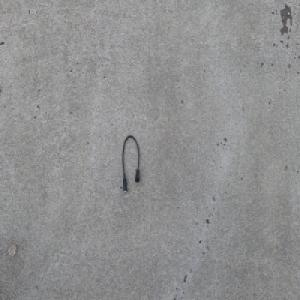Wire: (121, 133, 140, 194)
